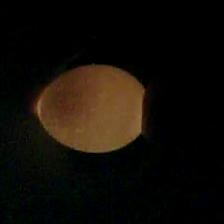infertile: (34, 62, 148, 154)
